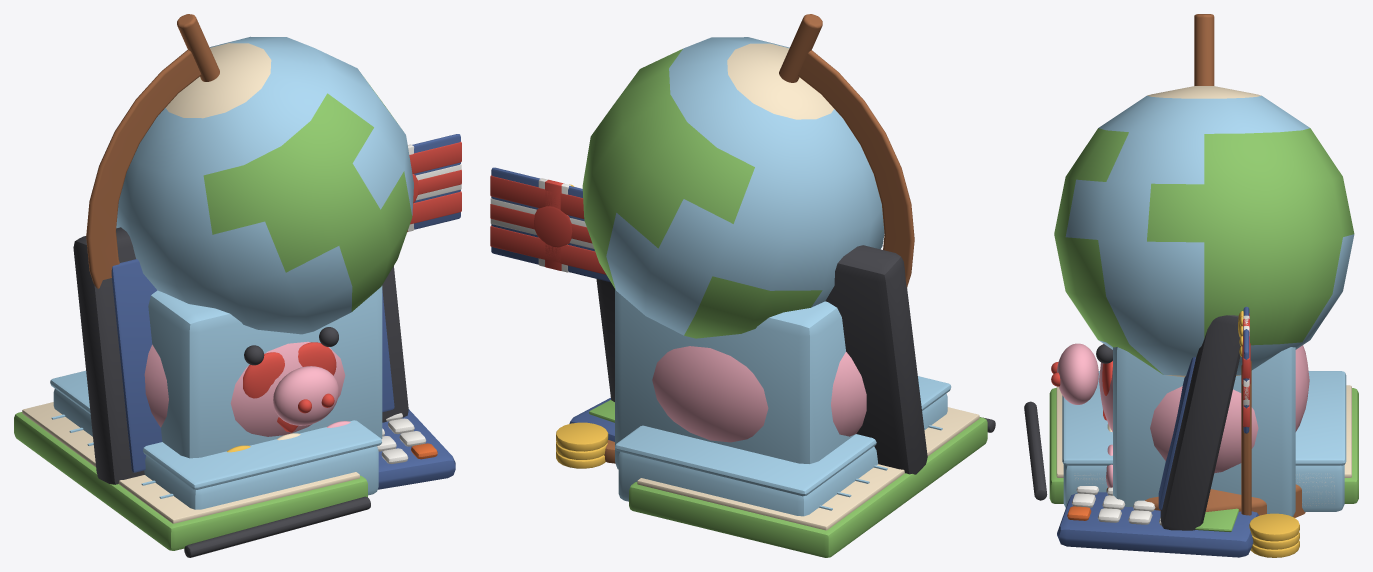
Rendered from interest_self_dev_v3_8.glb.
3 views of the same model, side by side, from view 1: azimuth 30°, elevation 25°; view 2: azimuth 150°, elevation 25°; view 3: azimuth 270°, elevation 25° (orthographic). The views are drawn at different scales.
Visible parts, largest first — view 1: globe_globe, volunteer_box_box, stock_chart_frame, calculator_ledger_book, flag_book_en_cover, stock_chart_screen, flag_book_en_book, calculator_ledger_page, piggy_bank_body, piggy_bank_snout, calculator_ledger_calc, calculator_ledger_pen (+7 smaller); view 2: globe_globe, volunteer_box_box, stock_chart_frame, piggy_bank_body, calculator_ledger_book, flag_book_en_cover, flag_book_en_book, calculator_ledger_page, flag_book_es_flag_band_0.141, piggy_bank, flag_book_es_flag_band_0.179, flag_book_en_flag (+4 smaller); view 3: globe_globe, volunteer_box_box, stock_chart_frame, flag_book_en_cover, calculator_ledger_calc, piggy_bank_body, flag_book_en_book, piggy_bank, calculator_ledger_book, piggy_bank_snout, calculator_ledger, calculator_ledger_pen (+4 smaller).
Boxes of the visible parts, x1=… form: globe_globe: x1=86, y1=14, x2=413, y2=334; volunteer_box_box: x1=148, y1=286, x2=382, y2=458; stock_chart_frame: x1=73, y1=227, x2=408, y2=484; calculator_ledger_book: x1=14, y1=412, x2=367, y2=550; flag_book_en_cover: x1=50, y1=370, x2=381, y2=489; stock_chart_screen: x1=111, y1=259, x2=394, y2=472; flag_book_en_book: x1=53, y1=389, x2=378, y2=509; calculator_ledger_page: x1=22, y1=402, x2=359, y2=523; piggy_bank_body: x1=144, y1=341, x2=345, y2=436; piggy_bank_snout: x1=273, y1=366, x2=338, y2=425; calculator_ledger_calc: x1=378, y1=409, x2=455, y2=489; calculator_ledger_pen: x1=184, y1=496, x2=370, y2=557; globe_globe: x1=582, y1=14, x2=914, y2=338; volunteer_box_box: x1=615, y1=289, x2=855, y2=469; stock_chart_frame: x1=596, y1=245, x2=927, y2=474; piggy_bank_body: x1=652, y1=346, x2=866, y2=442; calculator_ledger_book: x1=629, y1=417, x2=987, y2=557; flag_book_en_cover: x1=615, y1=376, x2=951, y2=496; flag_book_en_book: x1=618, y1=393, x2=947, y2=516; calculator_ledger_page: x1=637, y1=407, x2=979, y2=530; flag_book_es_flag_band_0.141: x1=490, y1=225, x2=606, y2=274; piggy_bank: x1=556, y1=422, x2=608, y2=468; flag_book_es_flag_band_0.179: x1=490, y1=175, x2=584, y2=218; flag_book_en_flag: x1=491, y1=167, x2=610, y2=282; globe_globe: x1=1054, y1=14, x2=1354, y2=517; volunteer_box_box: x1=1113, y1=347, x2=1295, y2=516; stock_chart_frame: x1=1160, y1=315, x2=1240, y2=530; flag_book_en_cover: x1=1062, y1=371, x2=1346, y2=465; calculator_ledger_calc: x1=1057, y1=492, x2=1258, y2=557; piggy_bank_body: x1=1099, y1=345, x2=1309, y2=473; flag_book_en_book: x1=1063, y1=465, x2=1344, y2=511; piggy_bank: x1=1051, y1=344, x2=1299, y2=557; calculator_ledger_book: x1=1049, y1=388, x2=1358, y2=503; piggy_bank_snout: x1=1057, y1=343, x2=1098, y2=404; calculator_ledger: x1=1067, y1=486, x2=1161, y2=525; calculator_ledger_pen: x1=1024, y1=401, x2=1047, y2=500.
Size of the model in its own units: 0.3166 by 0.3491 by 0.2382.
